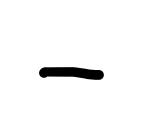minus: (39, 66, 104, 80)
